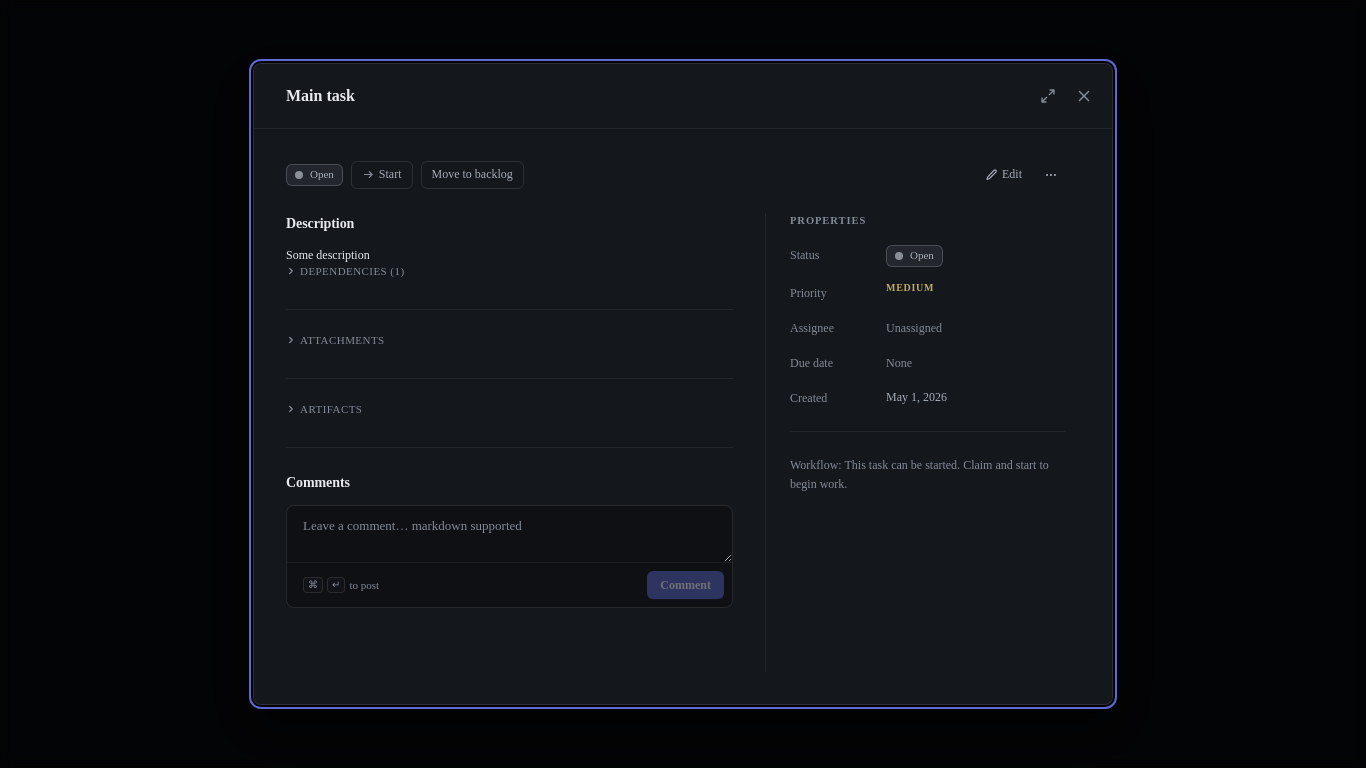
Test: TaskDetail — blocker status rendering › view mode — blockedBy list › renders abandoned blocker as done (non-blocking)
What coordinates should you click on to do the following:
click the button "Dependencies (1)"
I would click on:
 (344, 271)
Its box is [286,265,733,277].
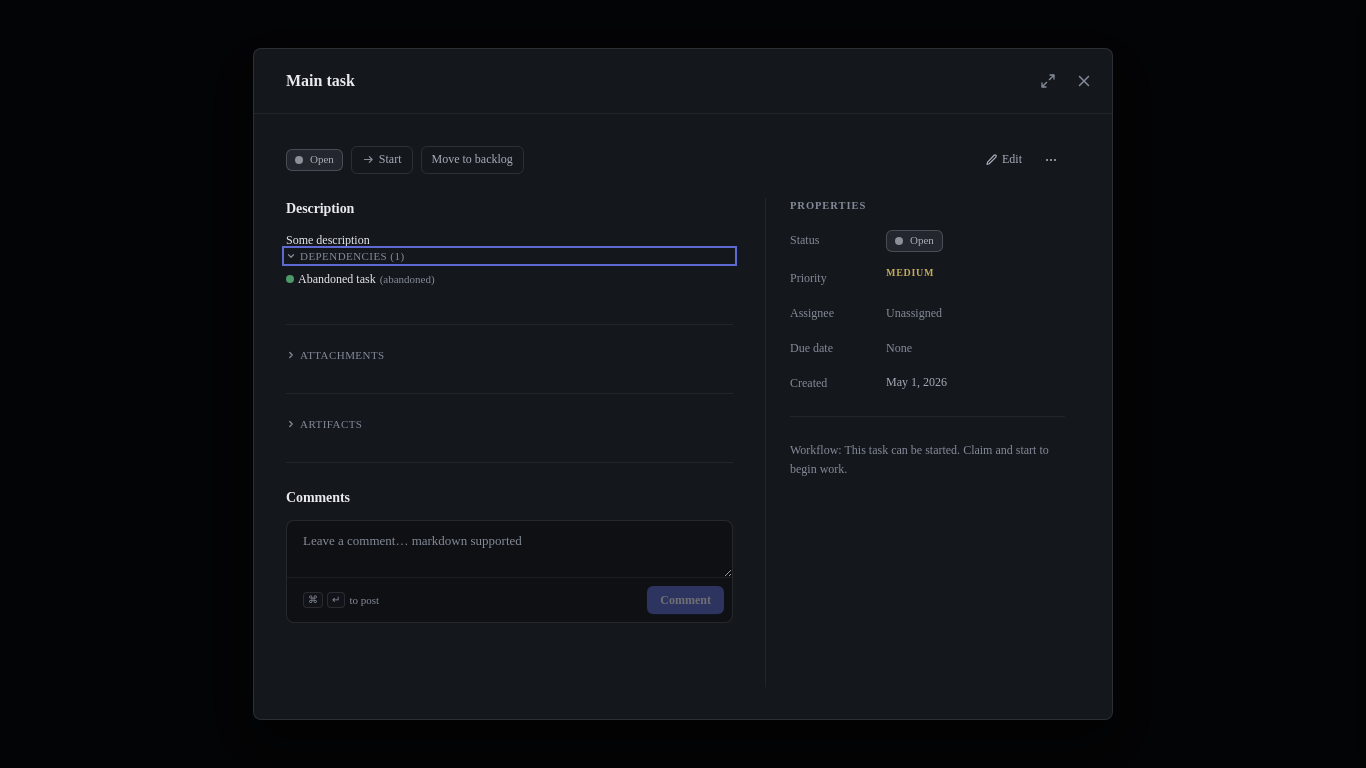
Expected: the element with class "td-dep-view-row" is shown, [286,272,435,286]
